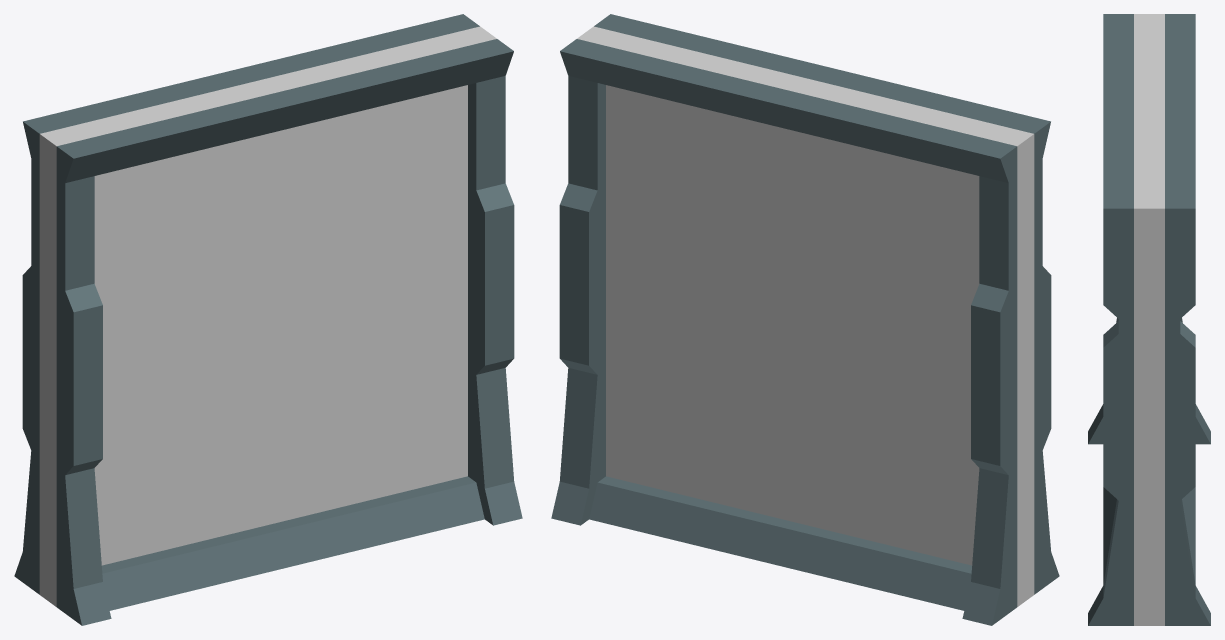
File: scifi_wall_2sided.fbx
3 renders of one model, left to right at view 1: azimuth 30°, elevation 25°; view 2: azimuth 150°, elevation 25°; view 3: azimuth 270°, elevation 25°, orthographic. The views are drawn at different scales.
Visible parts, largest first — view 1: Cube.063; view 2: Cube.063; view 3: Cube.063.
Boxes of the visible parts, left/top/right/bottom form: Cube.063: left=14, top=14, right=522, bottom=625; Cube.063: left=551, top=14, right=1059, bottom=625; Cube.063: left=1088, top=14, right=1210, bottom=625.
Size of the model in its own units: 3 by 3 by 0.8.
